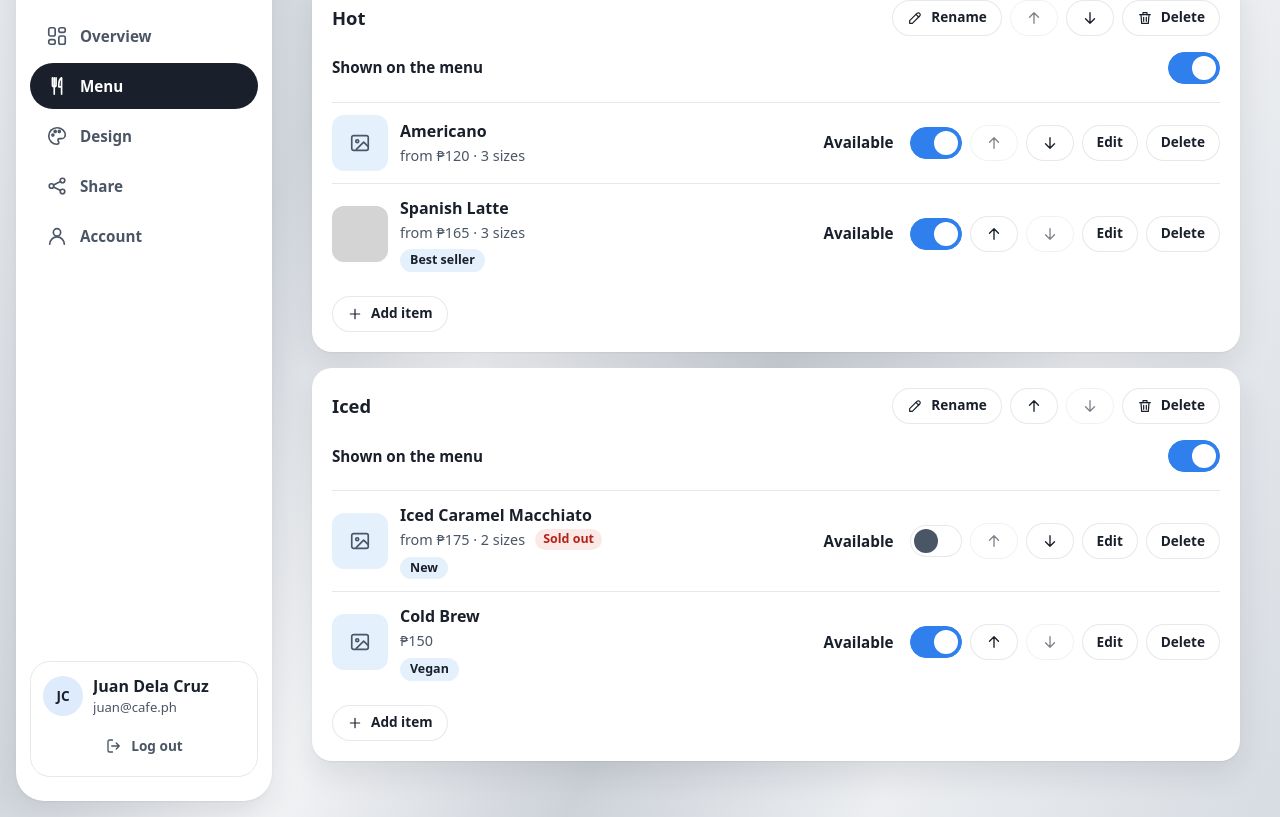
Test: When the owner repository fails: Menu › keeps the delete question open with the reason when deleting an item fails, and deletes it on the next try
This screenshot has width=1280, height=817.
(page scrolled)
Click the button "Delete" in the row of "Cold Brew" at point(1183, 642), box top-left (1146, 624), bottom-right (1220, 660)
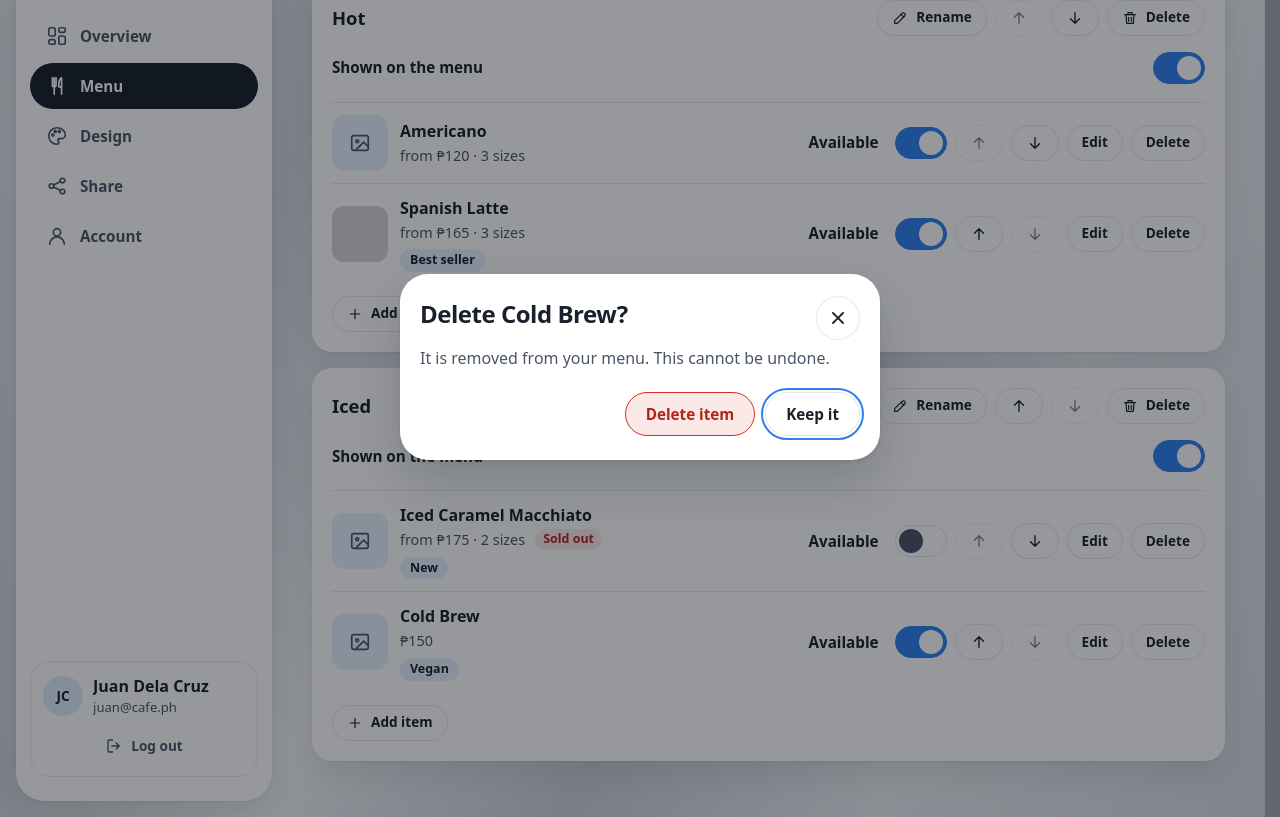
Click the button "Delete item" at point(690, 414), box top-left (625, 392), bottom-right (755, 436)
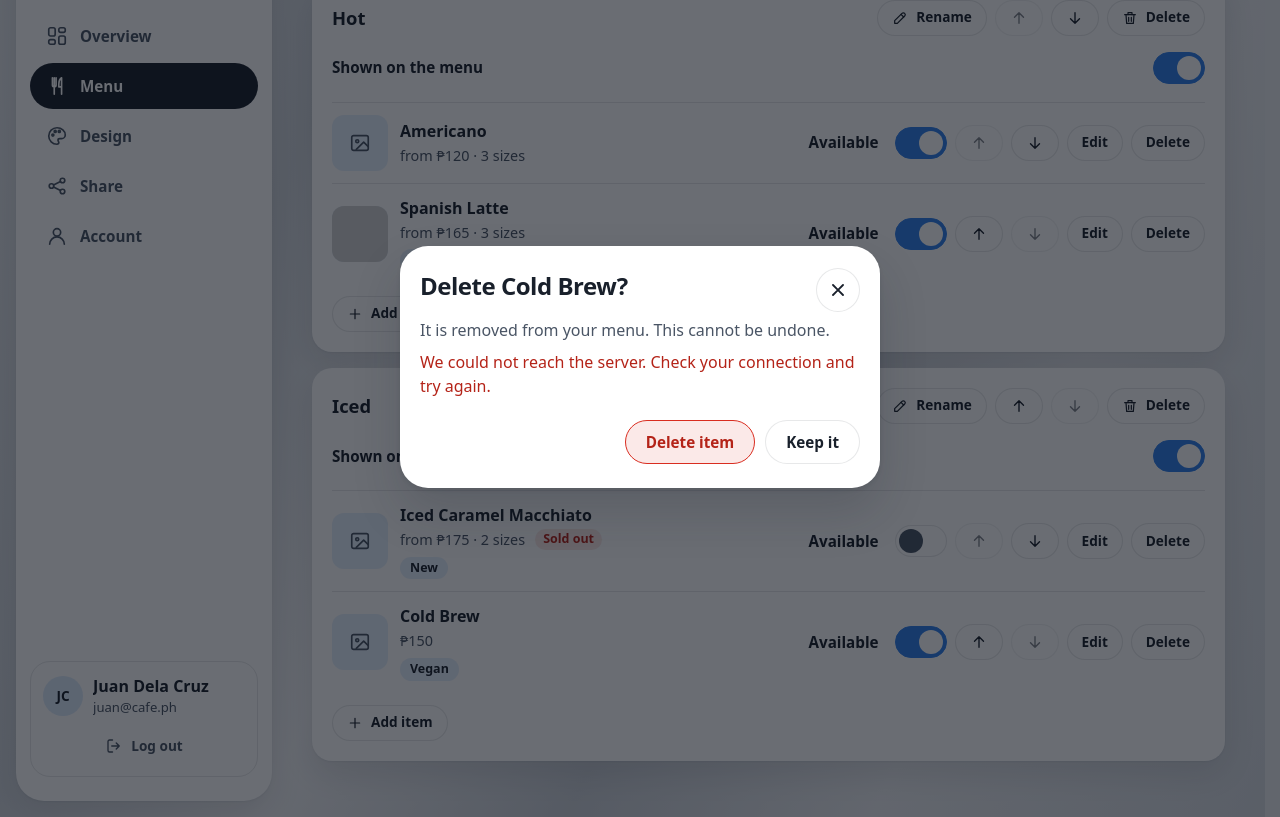
Expected: the button "Delete item" is enabled
Expected: the text "We could not reach the server. Check your connection and try again." is shown, top-left (420, 350), bottom-right (860, 398)
Click the button "Delete item" at point(690, 442), box top-left (625, 420), bottom-right (755, 464)
(page scrolled)
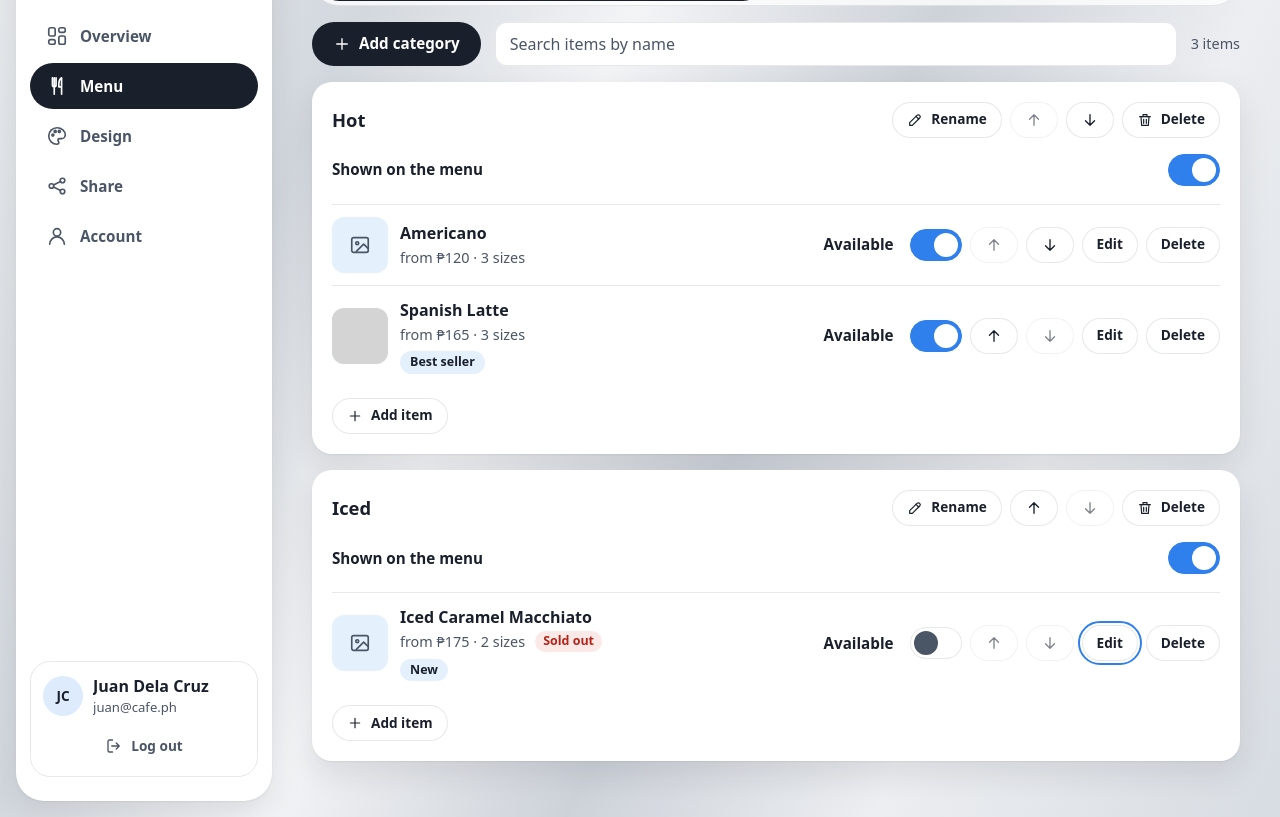
Expected: the dialog is gone
